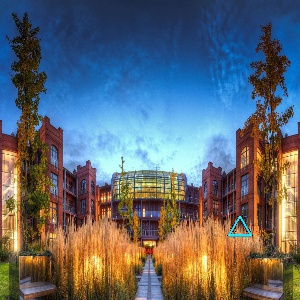triangle: (226, 215, 254, 239)
